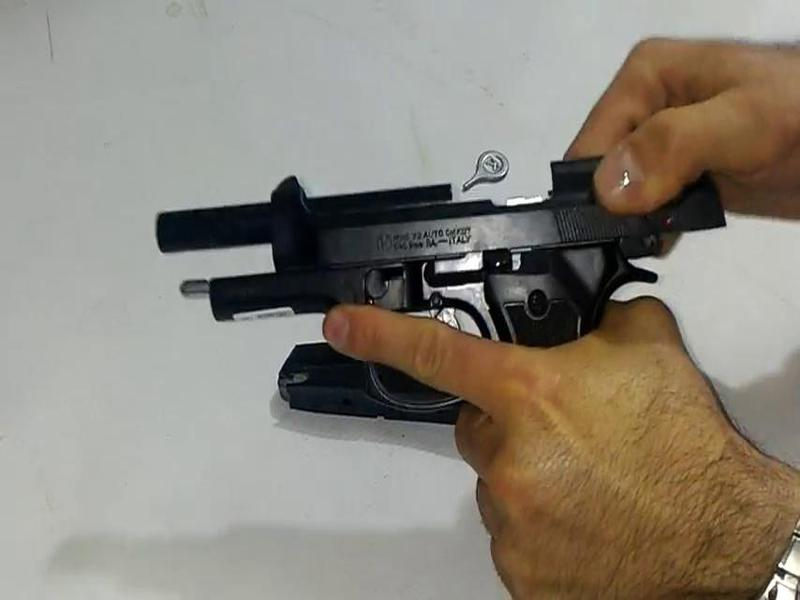Pistola: (147, 107, 733, 482)
